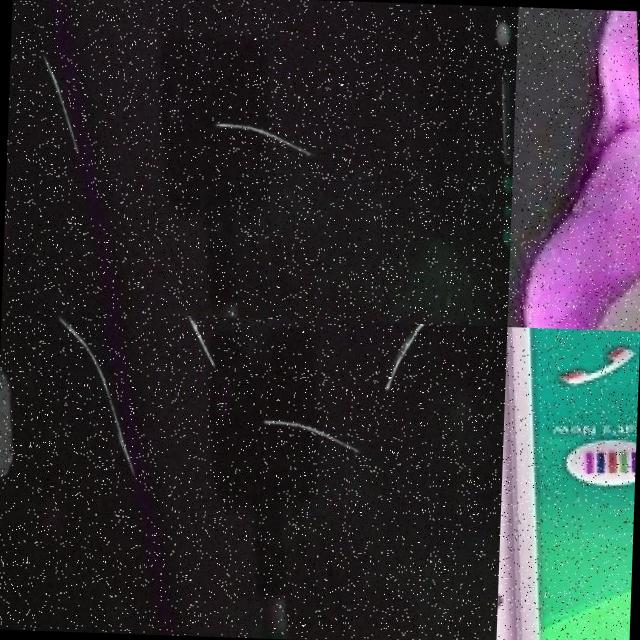scratch: (52, 311, 153, 495), (28, 18, 110, 180), (207, 91, 332, 184), (258, 394, 370, 473), (381, 322, 468, 413), (146, 314, 237, 374)
